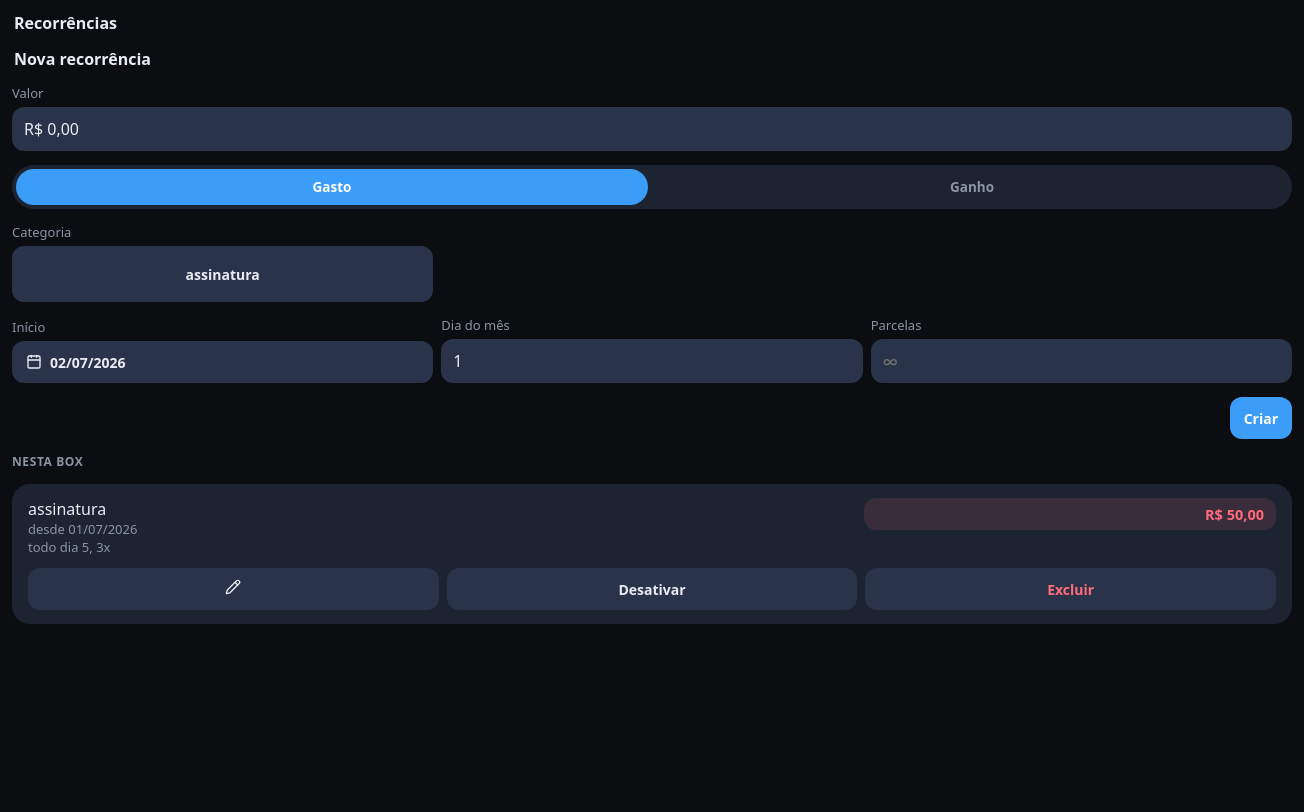
Test case: cancelar fecha o item sem gravar e traz "Nova recorrência" de volta
This screenshot has width=1304, height=812.
Click the button named "Editar": [233, 589] box [28, 568, 439, 610]
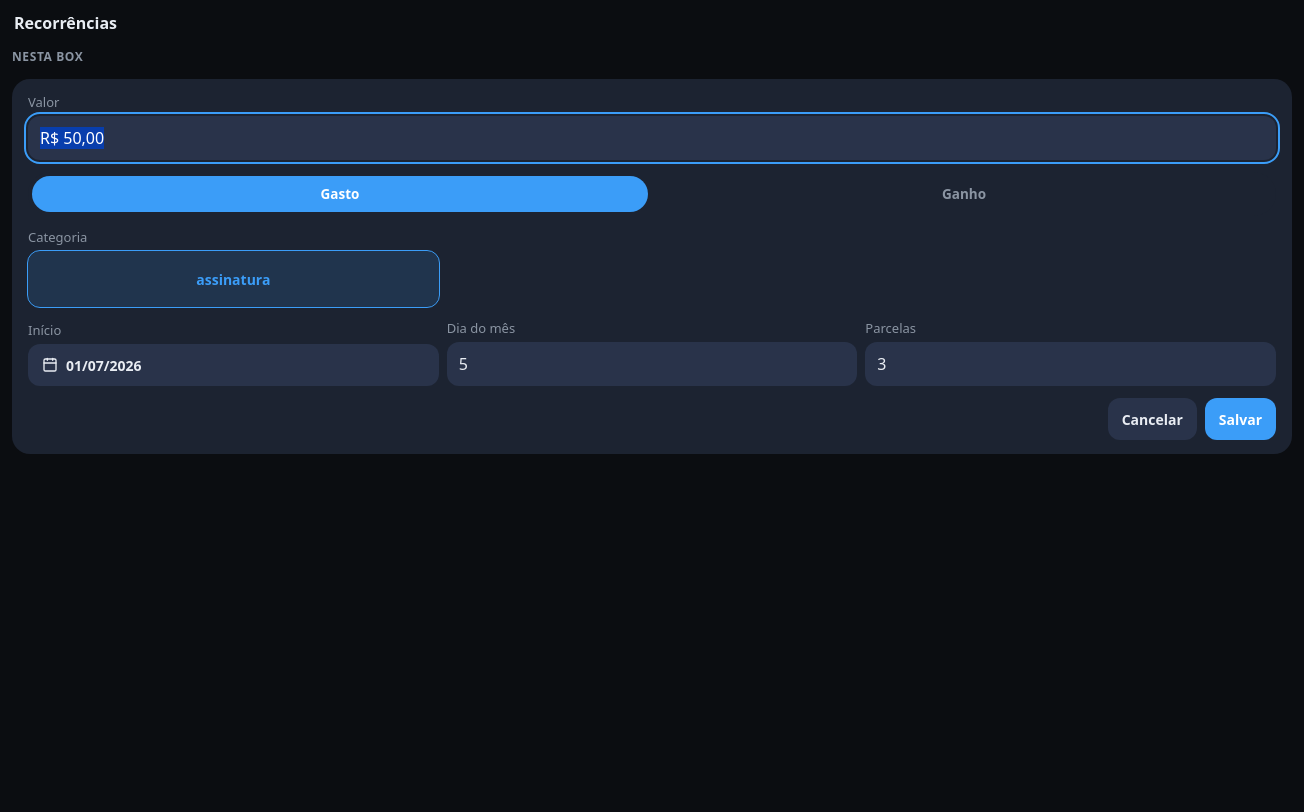
Replace the text in the field labelled "Valor" with "99,00": [652, 138] box [28, 116, 1276, 160]
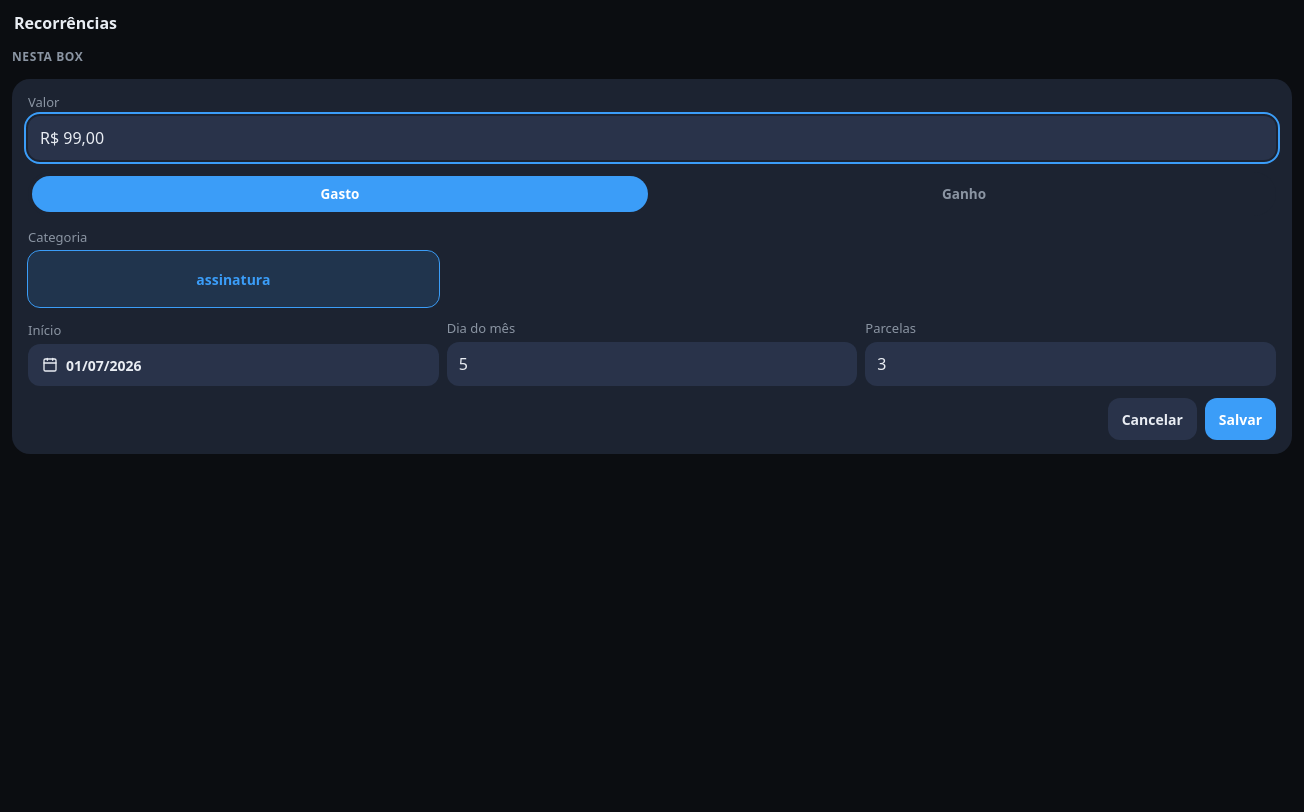
Click the button "Cancelar": [1152, 419] box [1108, 398, 1197, 440]
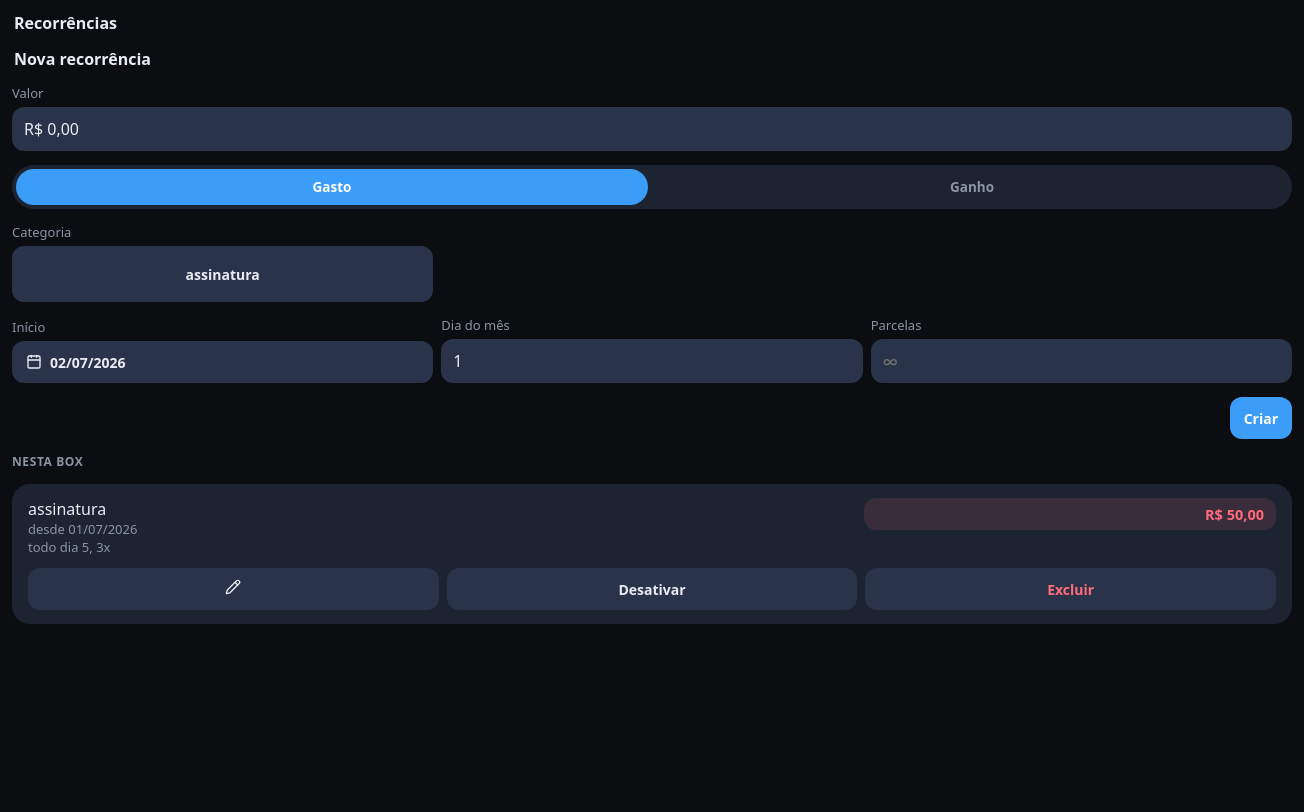
Check: the heading "Nova recorrência" is shown, box [14, 48, 151, 70]
Check: the text "R$ 50,00" is shown, box [864, 498, 1276, 530]
